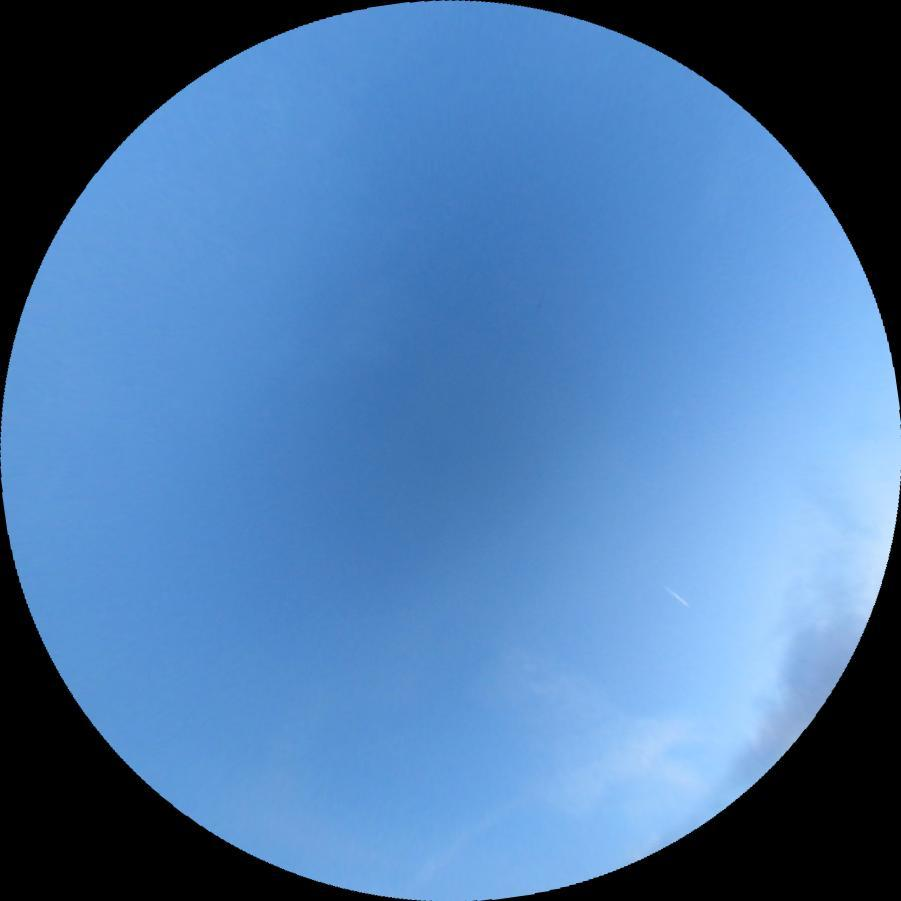contrail young: (663, 585, 692, 608)
